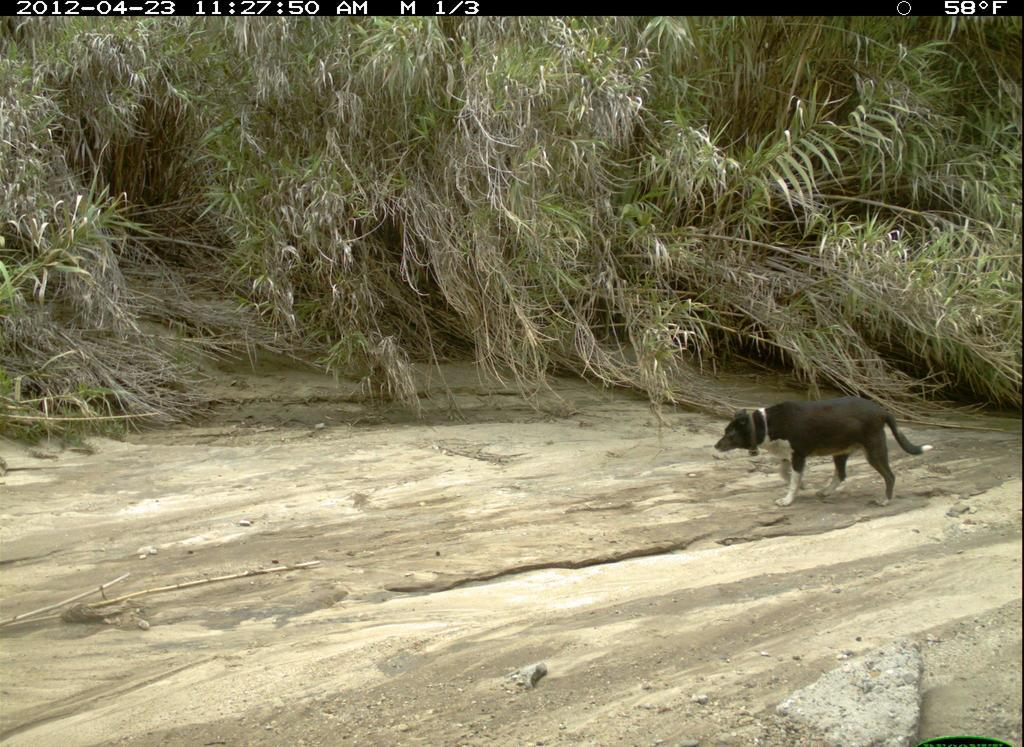dog: (712, 386, 936, 525)
